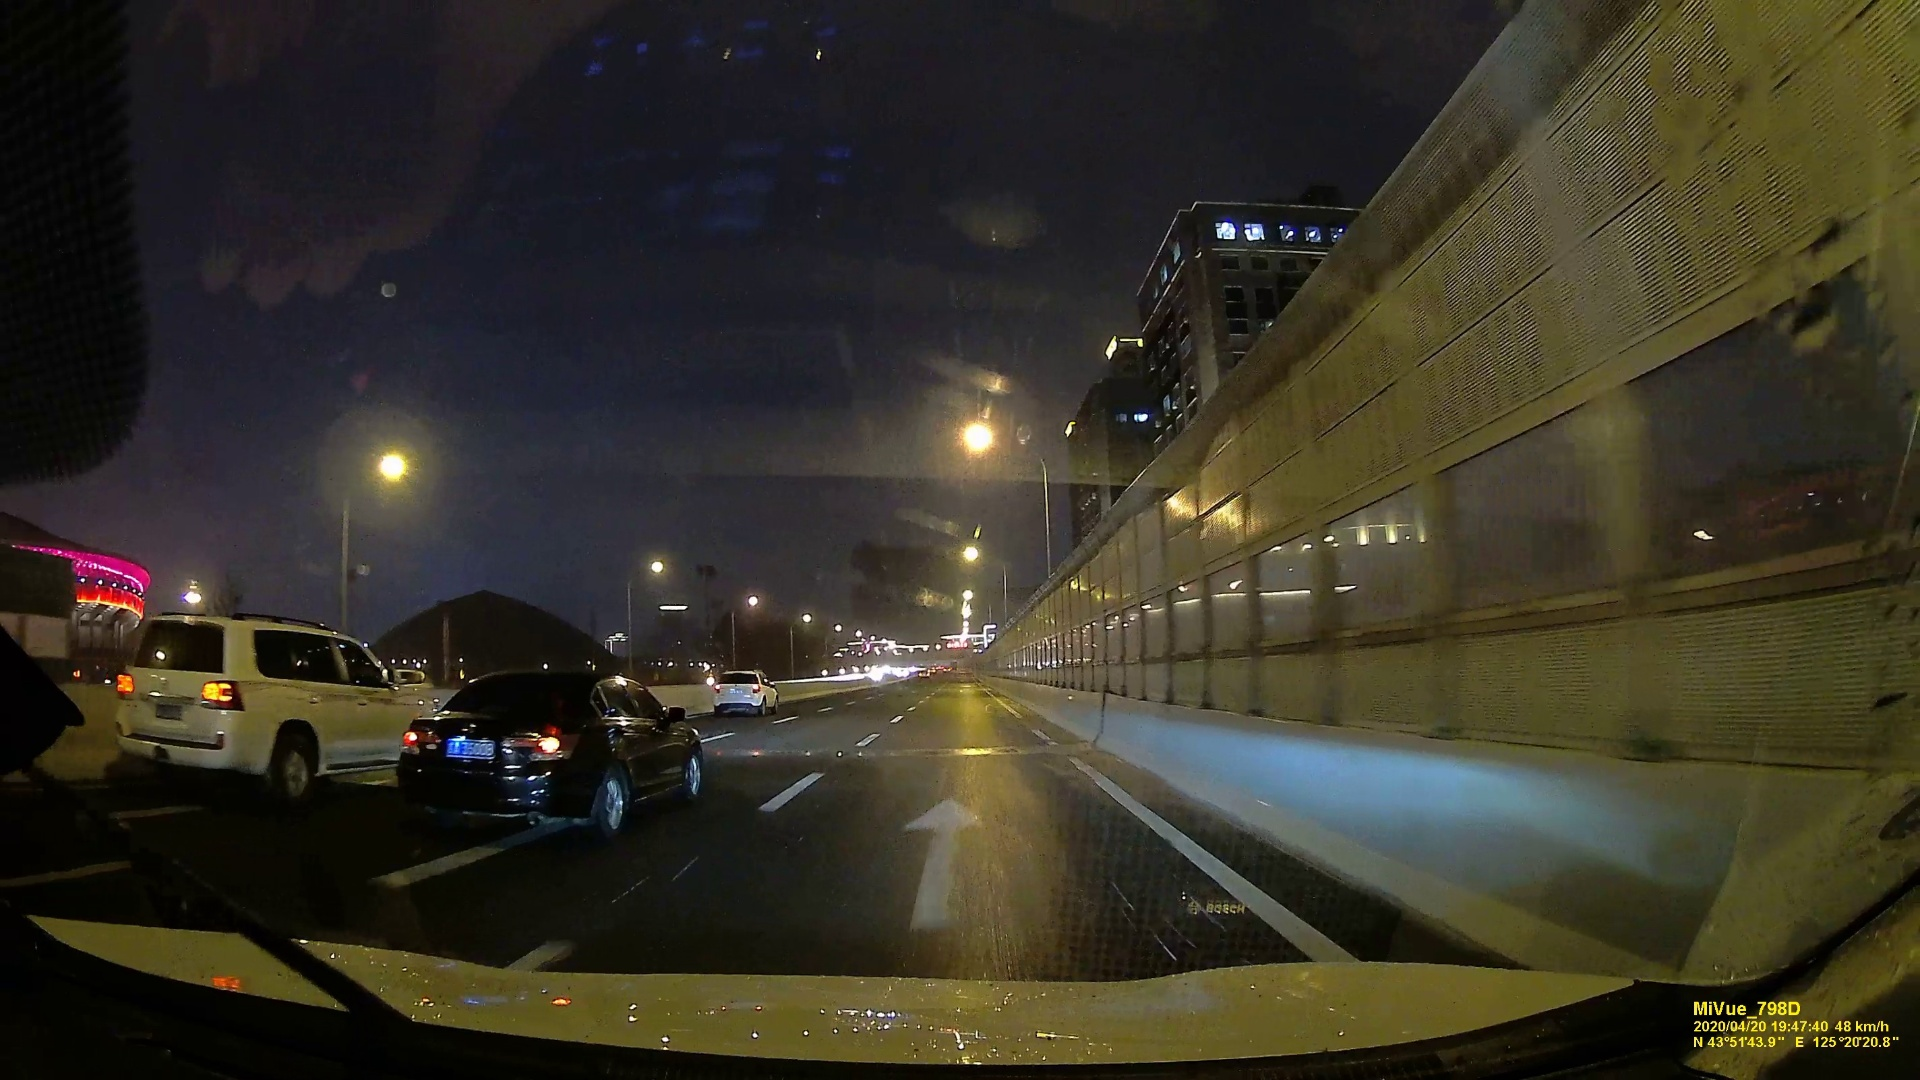vehicle: (401, 666, 702, 839), (107, 618, 402, 794), (709, 669, 779, 717)
